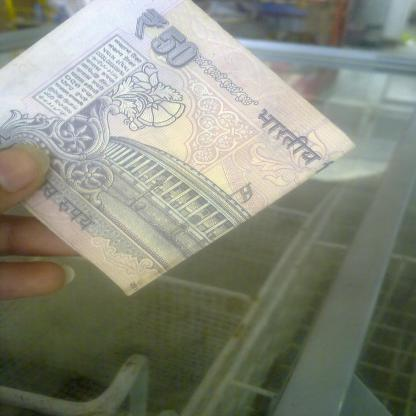Old50Back: (0, 0, 357, 298)
